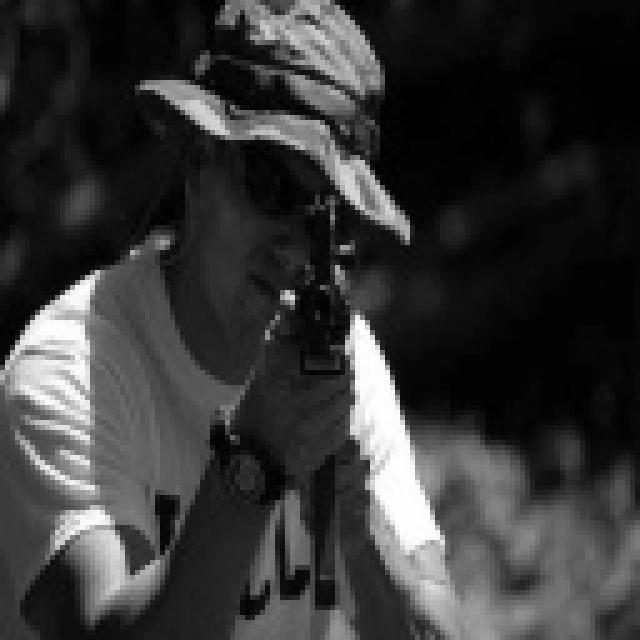Rifle: (249, 151, 395, 425)
